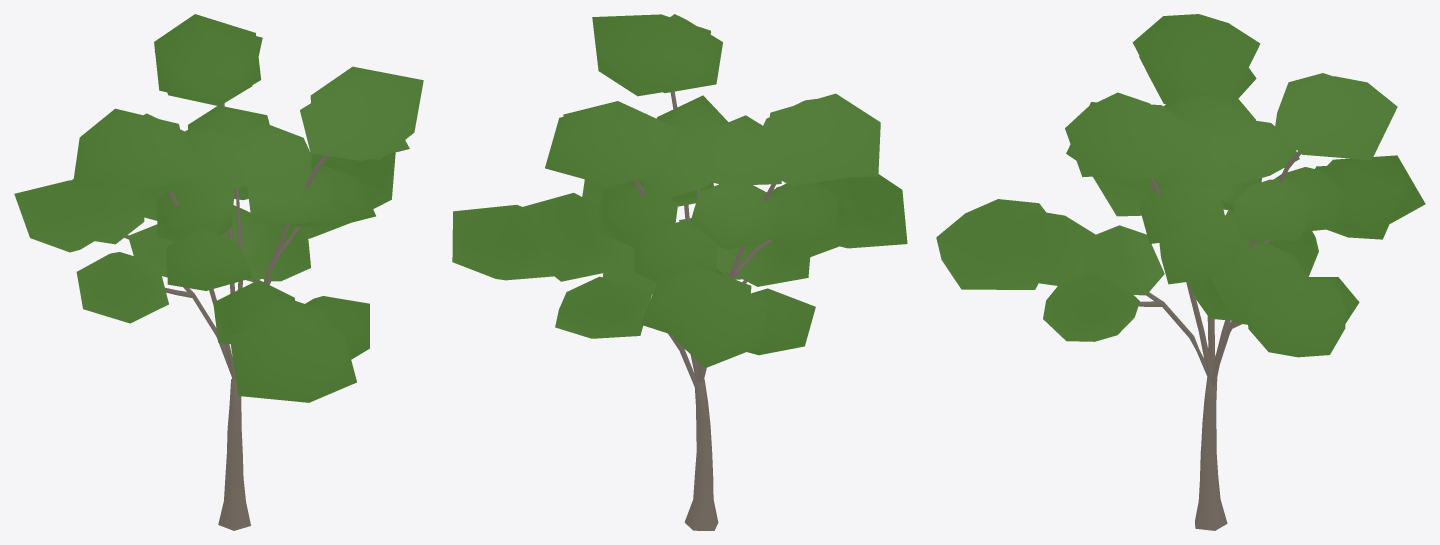
File: Blender_Pecan_1_Far.glb
3 renders of one model, left to right at view 1: azimuth 30°, elevation 25°; view 2: azimuth 150°, elevation 25°; view 3: azimuth 270°, elevation 25°, orthographic. The views are drawn at different scales.
Parts seen in each view (by area): view 1: Blender_Pecan_1_Far; view 2: Blender_Pecan_1_Far; view 3: Blender_Pecan_1_Far.
Boxes of the visible parts, left/top/right/bottom form: Blender_Pecan_1_Far: left=14, top=14, right=423, bottom=530; Blender_Pecan_1_Far: left=452, top=14, right=907, bottom=530; Blender_Pecan_1_Far: left=936, top=14, right=1425, bottom=530.
Size of the model in its own units: 26.18 by 30.62 by 28.99.
